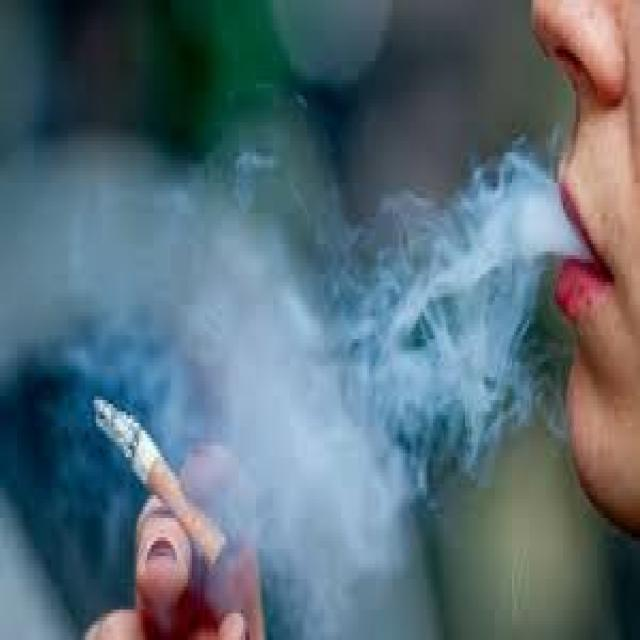Smoke: (262, 127, 550, 555)
